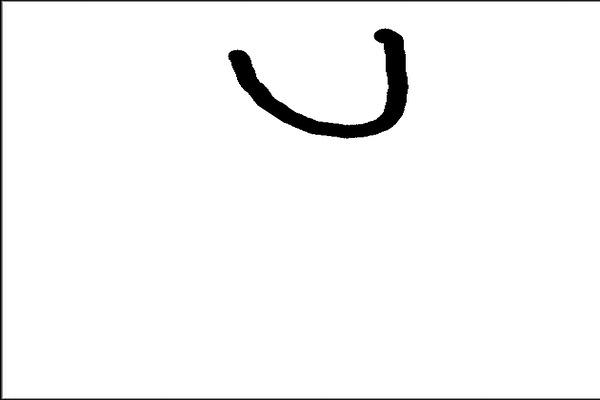U: (217, 11, 419, 138)
